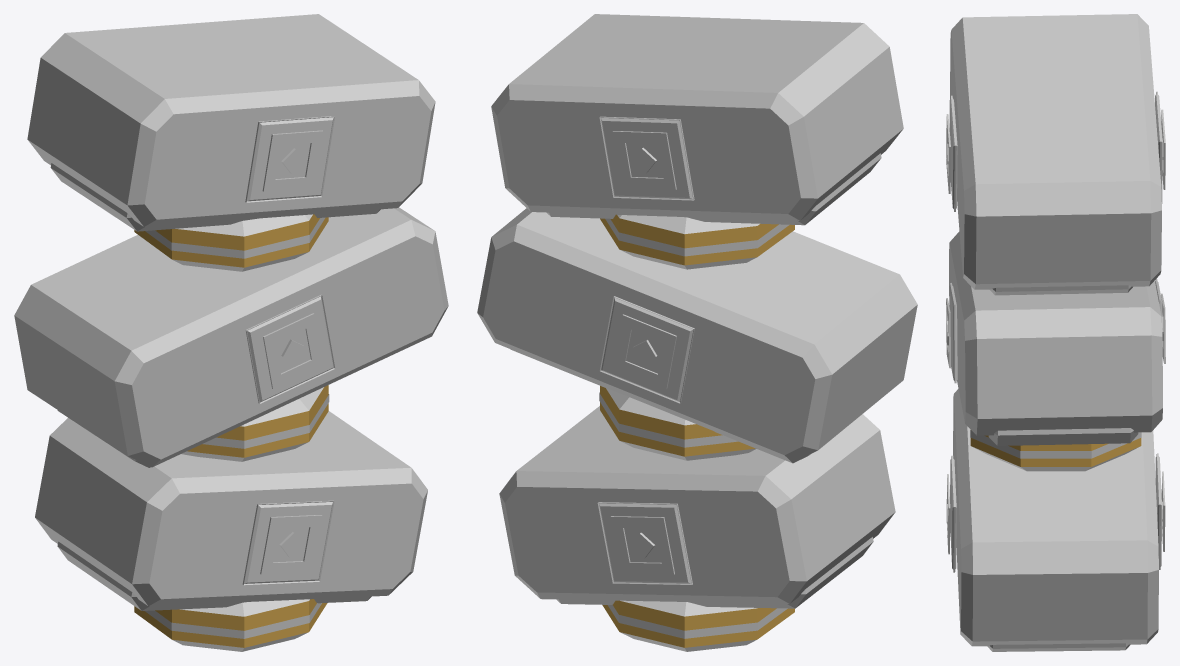
Rendered from wand_motion_03.obj.
The picture shows the model from 3 angles, left to right: view 1: azimuth 30°, elevation 25°; view 2: azimuth 150°, elevation 25°; view 3: azimuth 270°, elevation 25°; orthographic projection. The views are drawn at different scales.
Visible parts, largest first — view 1: chamfered_seal_tablet_2, chamfered_seal_tablet_1, chamfered_seal_tablet_0, tablet_spacer_2, tablet_spacer_0, inset_rune_socket_1, inset_rune_socket_5, inset_rune_socket_3, tablet_spacer_1, seal_shadow_base_2, seal_shadow_base_0, tablet_spacer_dark_seam_2 (+2 smaller); view 2: chamfered_seal_tablet_2, chamfered_seal_tablet_1, chamfered_seal_tablet_0, tablet_spacer_2, tablet_spacer_0, inset_rune_socket_2, inset_rune_socket_4, tablet_spacer_1, inset_rune_socket_0, seal_shadow_base_0, seal_shadow_base_2, tablet_spacer_dark_seam_2 (+2 smaller); view 3: chamfered_seal_tablet_2, chamfered_seal_tablet_0, chamfered_seal_tablet_1, tablet_spacer_1, seal_shadow_base_1, tablet_spacer_dark_seam_1, seal_shadow_base_2, seal_shadow_base_0, inset_rune_socket_5, inset_rune_socket_1, inset_rune_socket_3, inset_rune_socket_0 (+1 smaller).
Part boxes in pixels (x1,y1,x2,y2): chamfered_seal_tablet_2: (27,14,435,226); chamfered_seal_tablet_1: (14,207,448,467); chamfered_seal_tablet_0: (35,411,427,606); tablet_spacer_2: (134,214,328,271); tablet_spacer_0: (134,599,327,651); inset_rune_socket_1: (242,500,334,585); inset_rune_socket_5: (245,116,334,202); inset_rune_socket_3: (245,294,335,403); tablet_spacer_1: (181,385,328,461); seal_shadow_base_2: (50,163,380,231); seal_shadow_base_0: (57,541,371,610); tablet_spacer_dark_seam_2: (145,217,325,258); chamfered_seal_tablet_2: (491,14,903,220); chamfered_seal_tablet_1: (477,208,917,462); chamfered_seal_tablet_0: (499,406,895,603); tablet_spacer_2: (600,214,794,269); tablet_spacer_0: (602,600,794,651); inset_rune_socket_2: (599,296,694,403); inset_rune_socket_4: (599,116,694,200); tablet_spacer_1: (600,386,756,460); inset_rune_socket_0: (597,502,692,584); seal_shadow_base_0: (556,537,873,608); seal_shadow_base_2: (547,153,881,225); tablet_spacer_dark_seam_2: (605,218,789,256); chamfered_seal_tablet_2: (950,14,1161,289); chamfered_seal_tablet_0: (953,389,1158,646); chamfered_seal_tablet_1: (949,231,1162,435); tablet_spacer_1: (970,435,1141,471); seal_shadow_base_1: (988,428,1138,445); tablet_spacer_dark_seam_1: (970,430,1141,458); seal_shadow_base_2: (990,285,1132,295); seal_shadow_base_0: (987,643,1130,651); inset_rune_socket_5: (949,95,957,211); inset_rune_socket_1: (950,455,956,572); inset_rune_socket_3: (949,283,957,383); inset_rune_socket_0: (1155,453,1161,569).
Size of the model in its own units: 0.1994 by 0.3168 by 0.1147.
